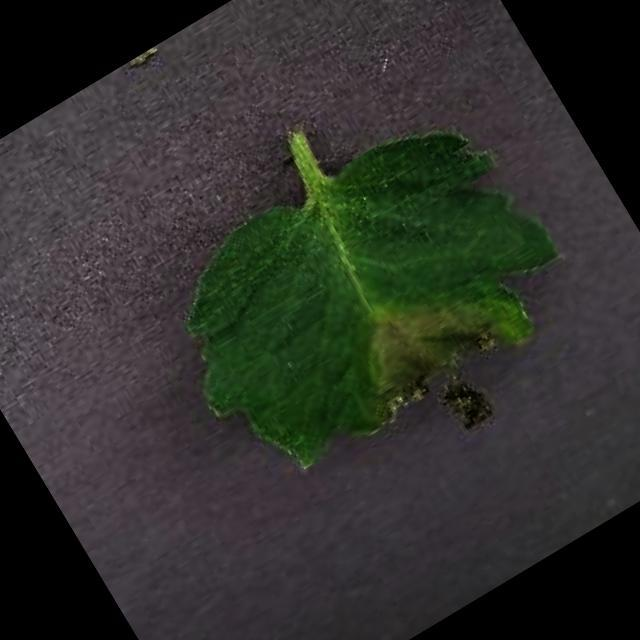Tomato late blight leaf: (126, 94, 608, 550)
